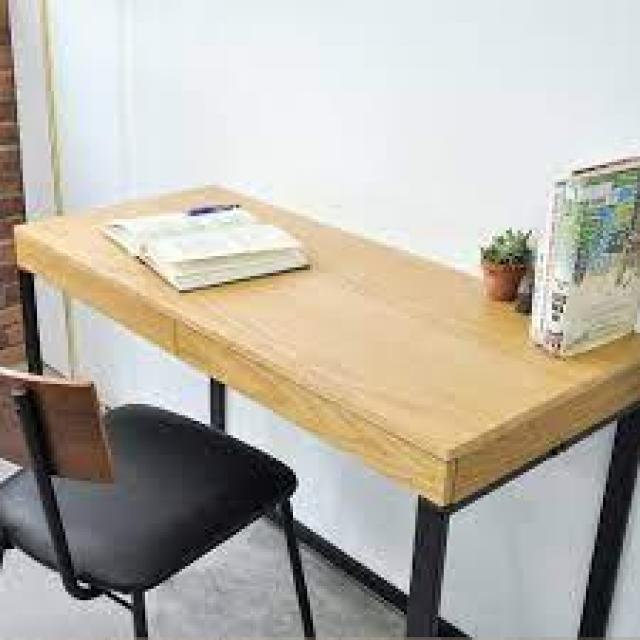table: (28, 121, 634, 576)
